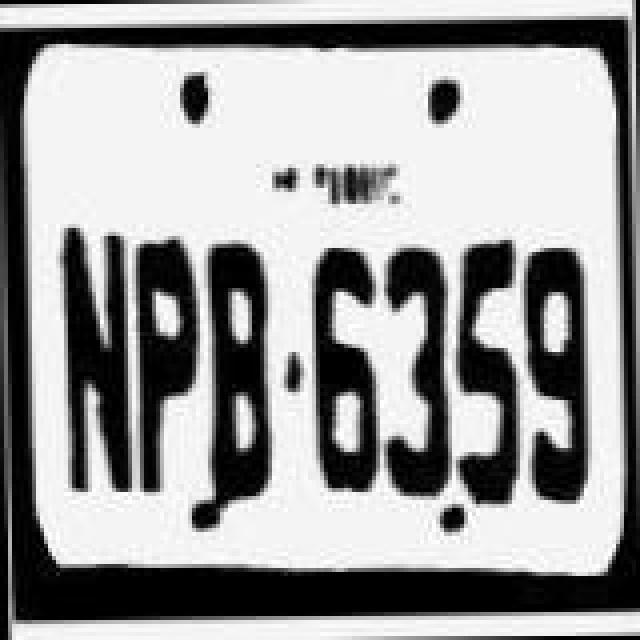3: (382, 234, 454, 498)
5: (446, 204, 526, 512)
6: (302, 240, 382, 496)
9: (520, 234, 596, 510)
B: (202, 240, 282, 500)
N: (52, 230, 136, 498)
P: (126, 234, 198, 498)
